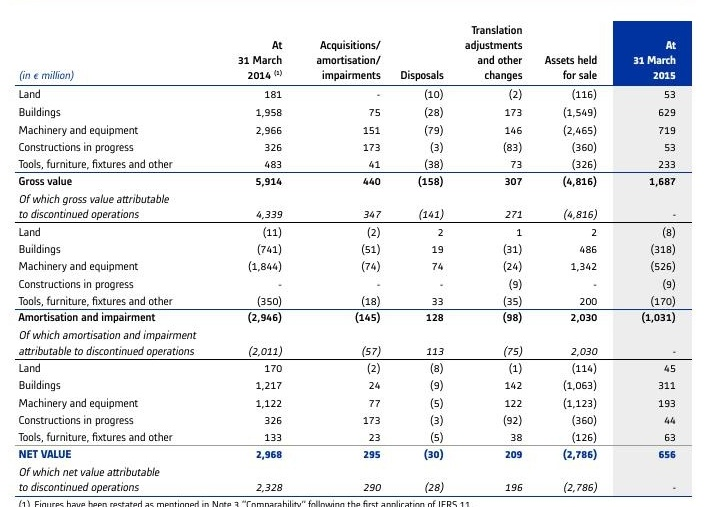table: (0, 0, 717, 507)
